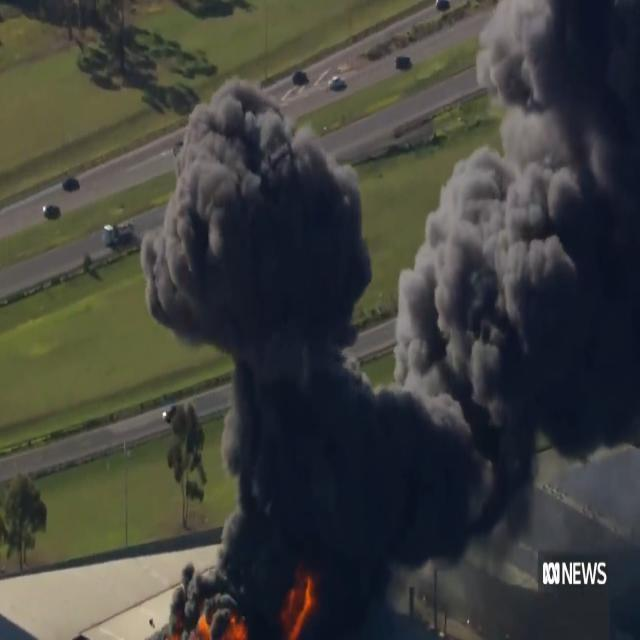fire: (190, 592, 326, 638)
